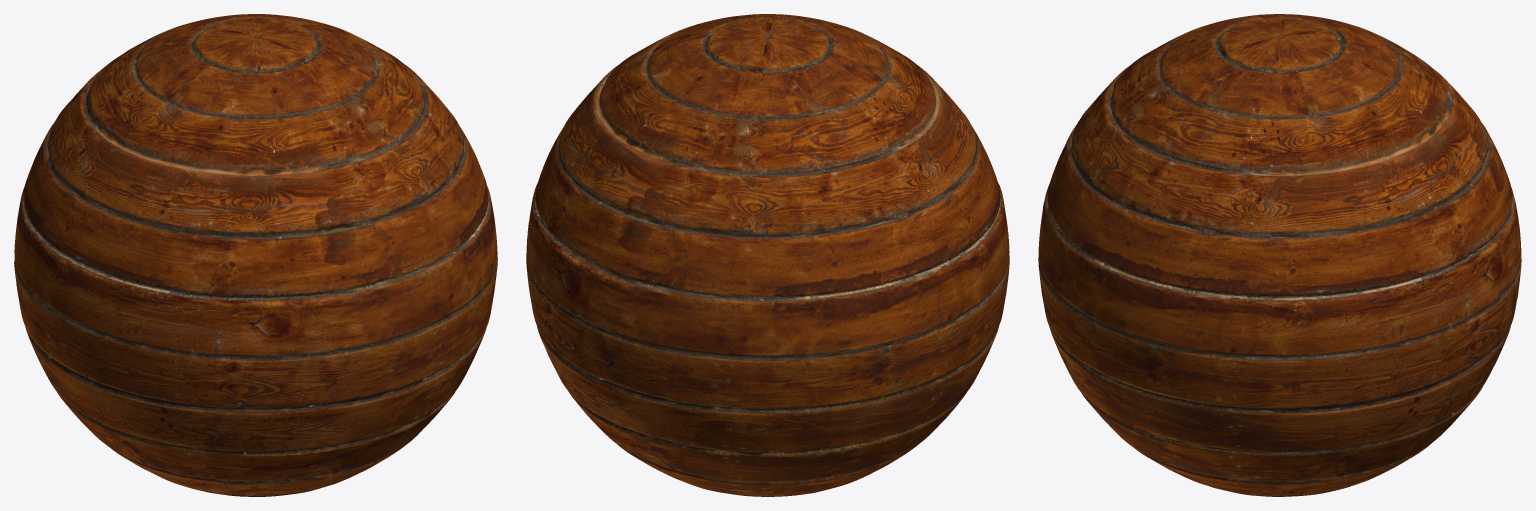
The model's file is wood_floor_deck_2k.gltf.
3 renders of one model, left to right at view 1: azimuth 30°, elevation 25°; view 2: azimuth 150°, elevation 25°; view 3: azimuth 270°, elevation 25°, orthographic.
Parts seen in each view (by area): view 1: sphere_gltf; view 2: sphere_gltf; view 3: sphere_gltf.
Boxes of the visible parts, bbox=[...] form: sphere_gltf: bbox=[14, 14, 497, 496]; sphere_gltf: bbox=[526, 14, 1009, 496]; sphere_gltf: bbox=[1038, 14, 1521, 496].
Size of the model in its own units: 1.97 by 1.97 by 1.97.
